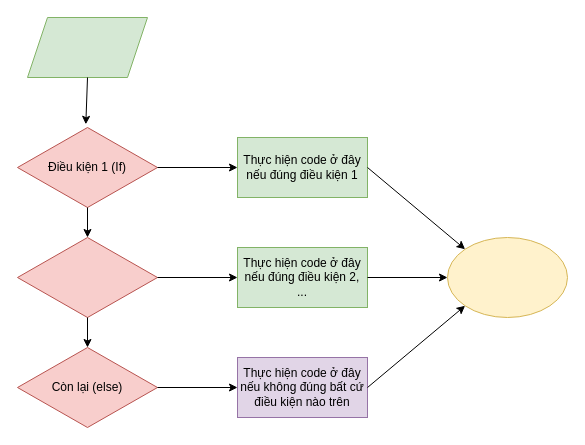
Some shapes in this 585 by 445 pixel diagram are drawn without their labels. Each missing label, with the centre of its shape:
"Kết thúc chương trình" belongs at point (507, 277).
"Nhập thông tin" belongs at point (87, 47).
"Điều kiện 2, ... (elif)" belongs at point (87, 277).
